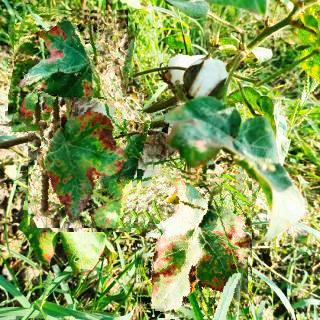blight: (137, 169, 252, 320), (28, 97, 160, 228), (8, 7, 135, 134)
